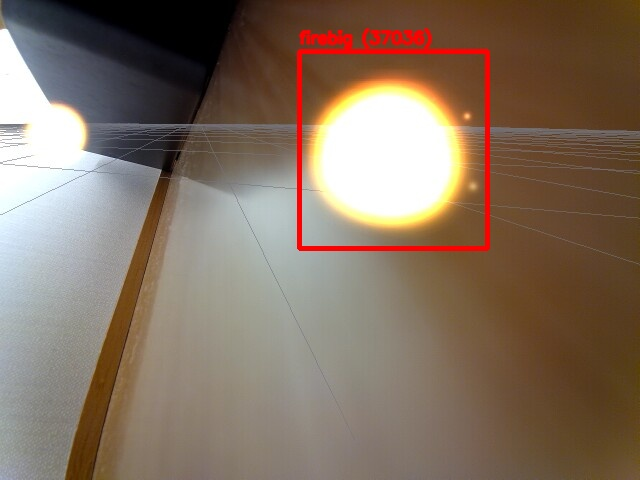firebig: (299, 51, 487, 248)
